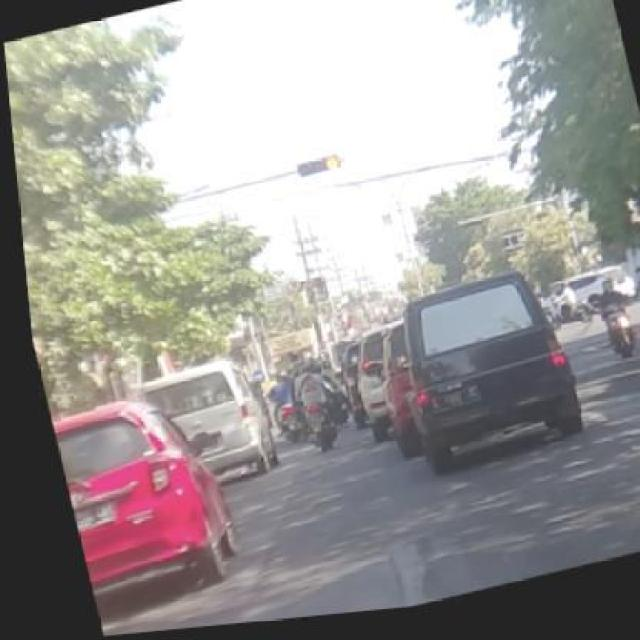Traffic Light -Red-: (290, 150, 344, 184)
